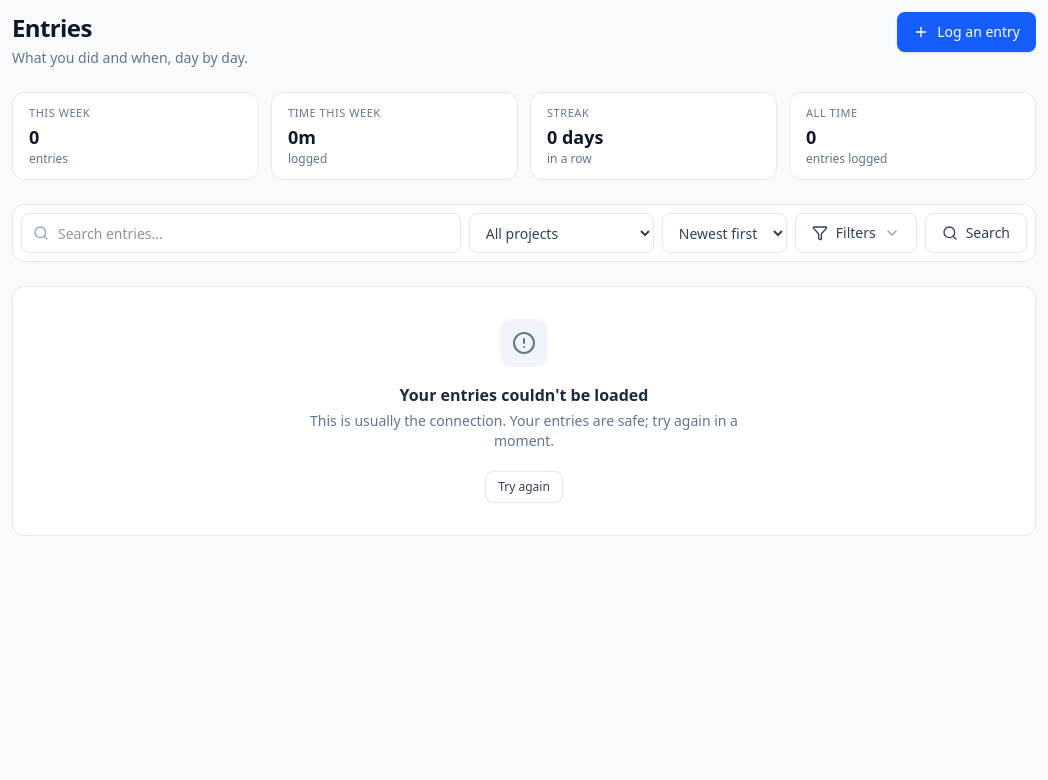
EntriesPage — the timeline › explains a failed load and offers to try again
The image size is (1048, 780).
Step 1. Click the button "Try again" → {"x": 524, "y": 487}, box [485,471,563,503]
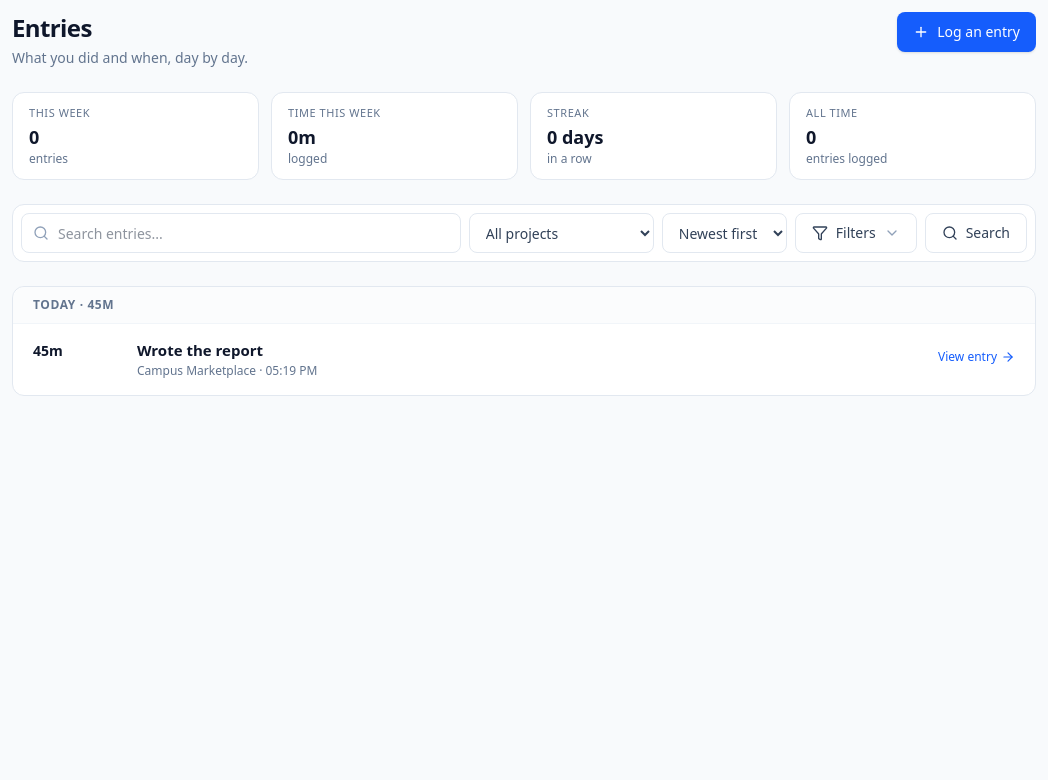
Result: the text "Wrote the report" is shown at [137,340,263,360]
